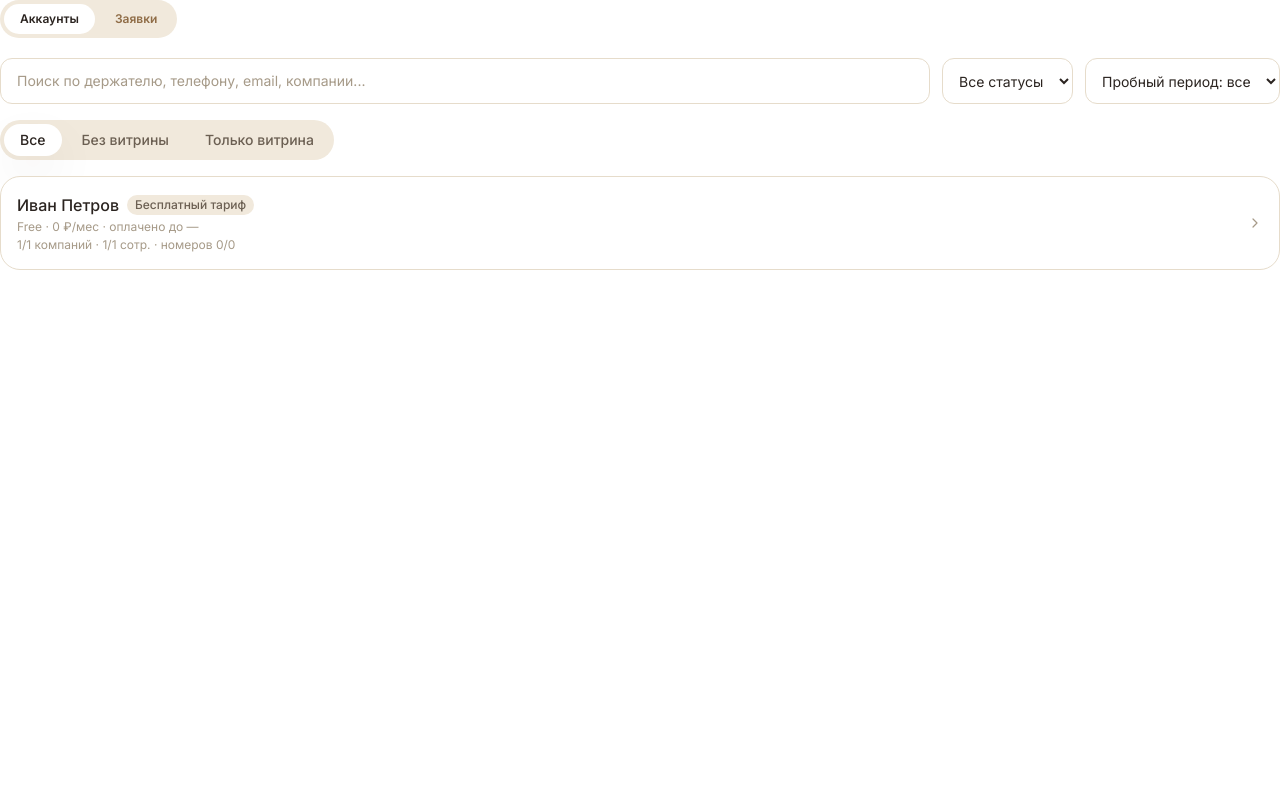
Test: BillingAccountsAdminTab — assign subscription modal › hides the "Оплачено до" field entirely while the free plan is selected
Click the text "Иван Петров" at (68, 205), box [17, 193, 119, 217]
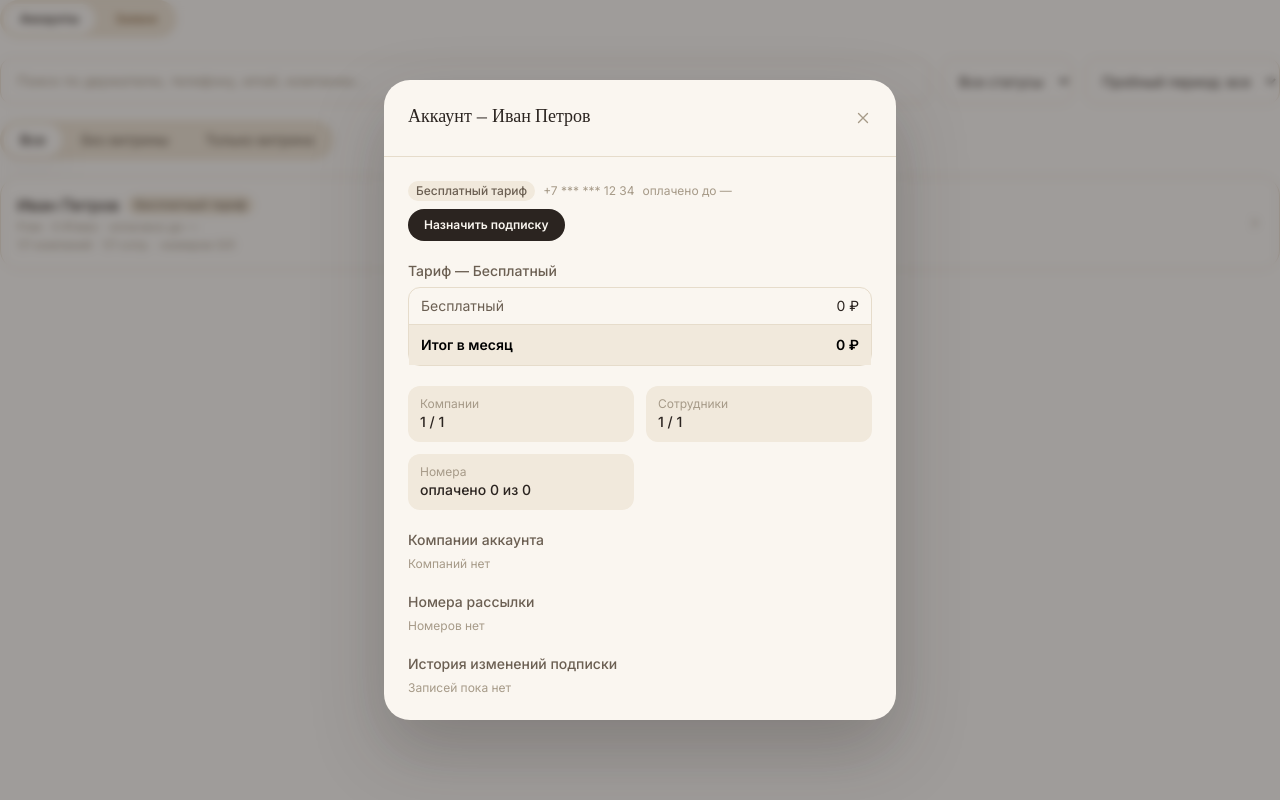
Check: the button "Назначить подписку" is shown
Click the button "Назначить подписку" at (486, 225), box [408, 209, 564, 241]
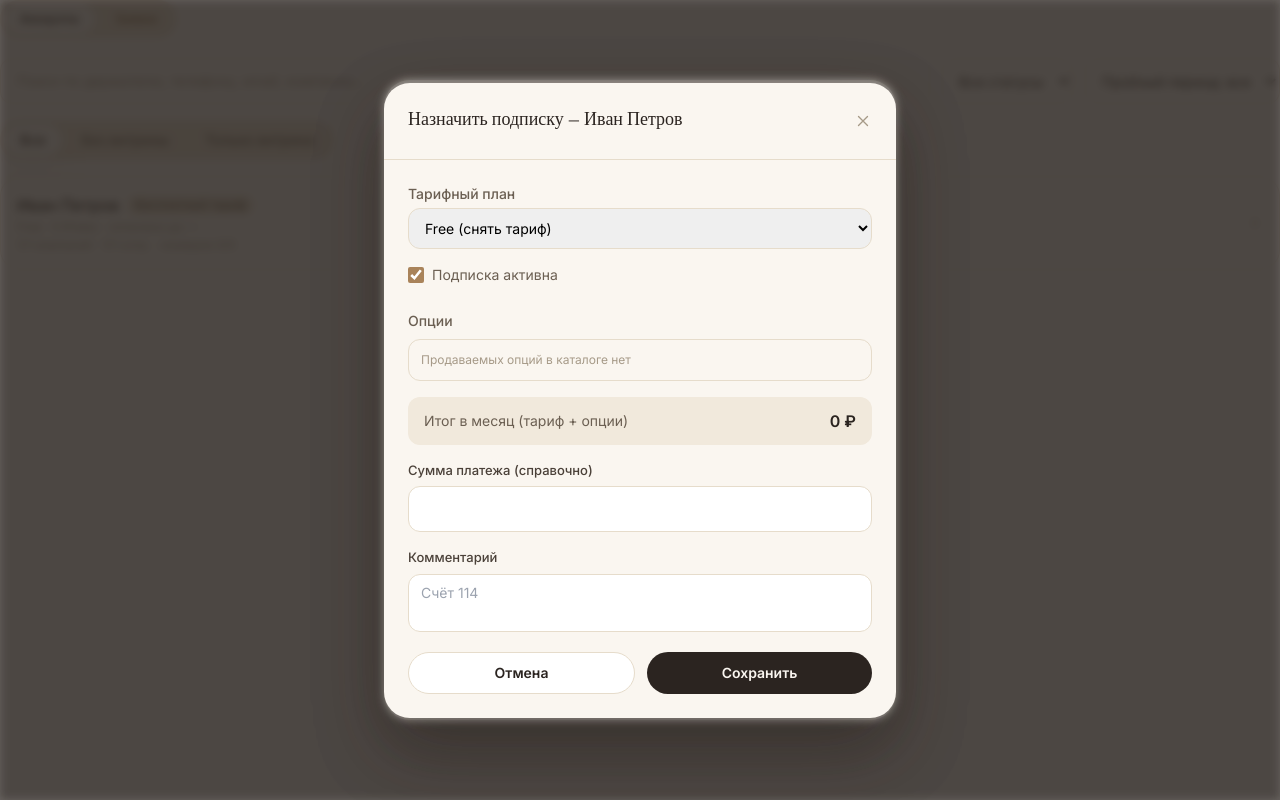
Check: the text "Тарифный план" is shown, box [408, 184, 515, 202]
Check: the button "Сохранить" is enabled, box [647, 652, 872, 694]
